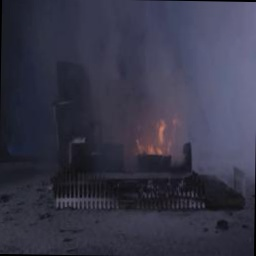fire: (131, 106, 184, 170)
smoke: (97, 0, 256, 116)
